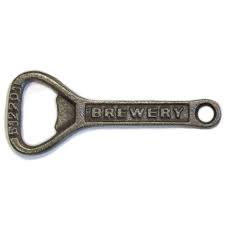bottleopener: (6, 70, 222, 156)
